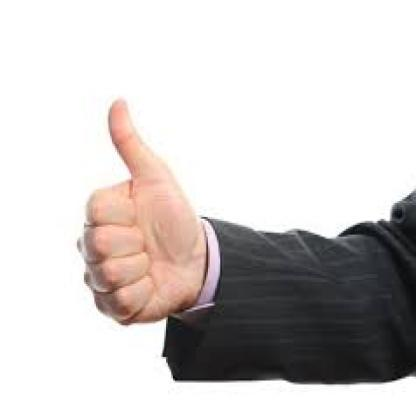thumb_up: (73, 94, 198, 328)
